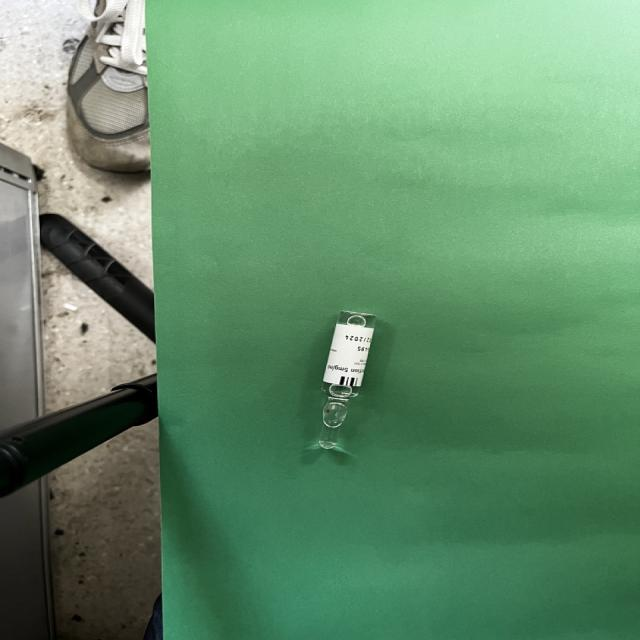Ampoules: (319, 311, 375, 450)
